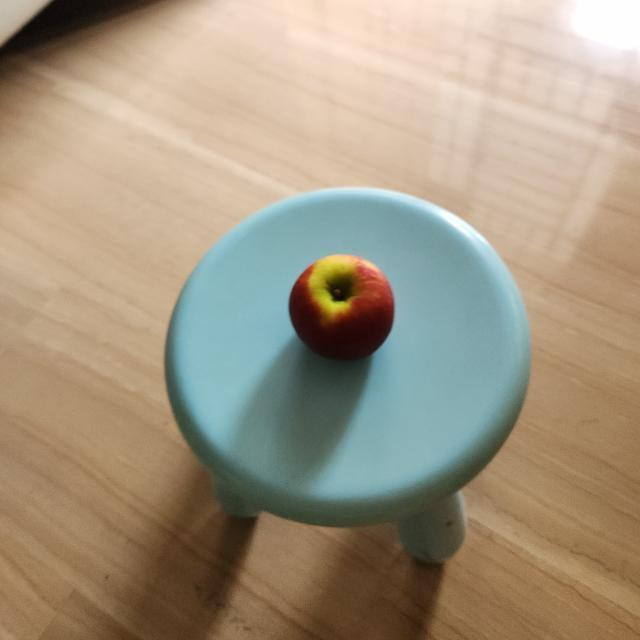apple: (291, 252, 400, 364)
